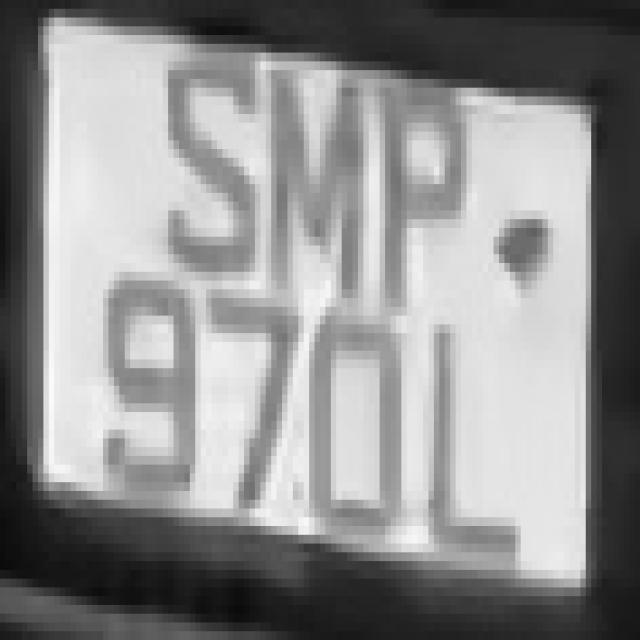0: (298, 289, 402, 579)
7: (217, 246, 331, 544)
9: (103, 255, 201, 552)
L: (423, 298, 537, 596)
M: (260, 17, 364, 307)
P: (363, 35, 478, 307)
S: (146, 9, 266, 289)
